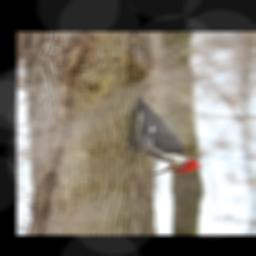Woodpecker: (120, 86, 202, 175)
